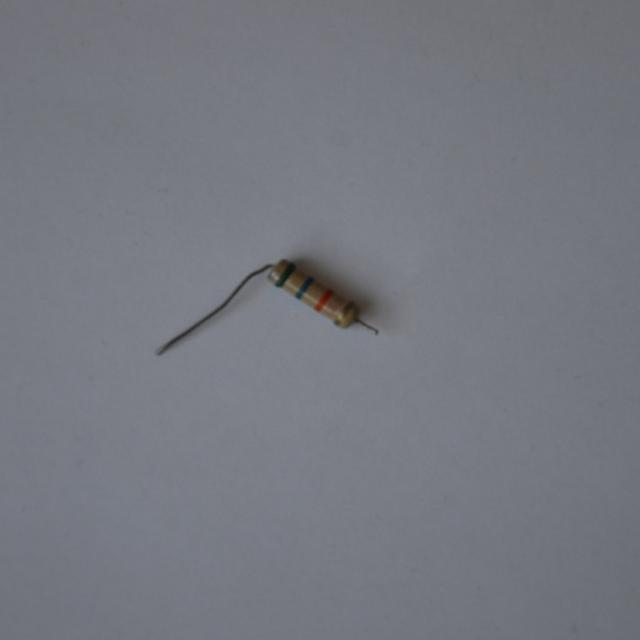blue: (294, 275, 313, 298)
gold: (334, 302, 354, 325)
green: (276, 262, 295, 287)
orange: (315, 291, 331, 310)
resistor: (247, 242, 380, 354)
